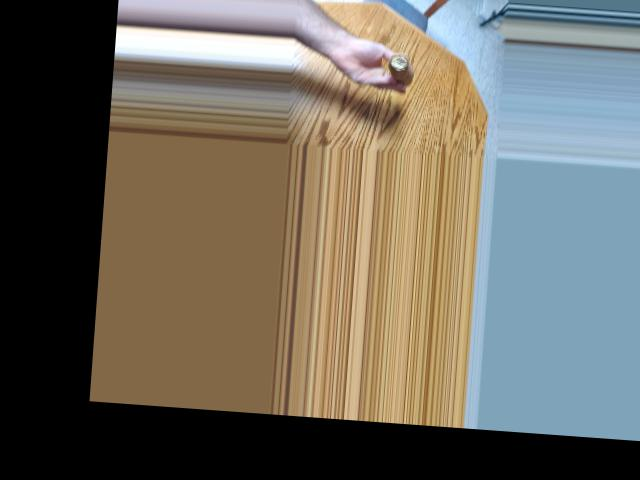sweet_potato: (378, 47, 419, 88)
